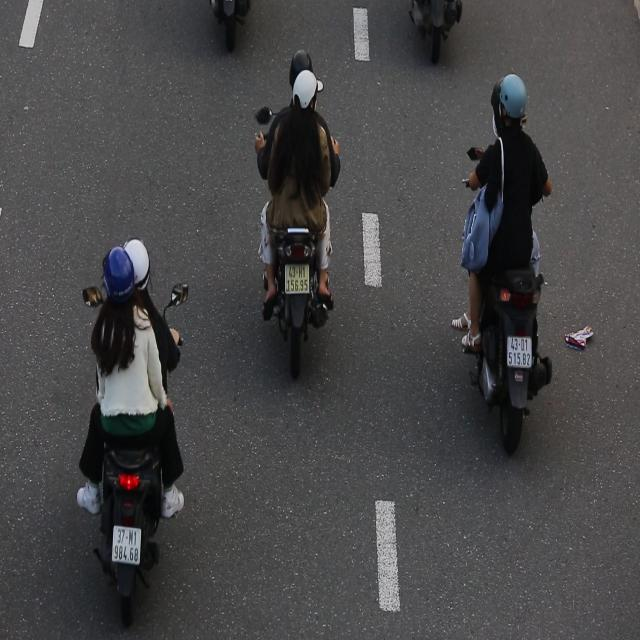motorbike: (74, 217, 194, 634), (452, 62, 564, 465), (246, 28, 348, 407)
